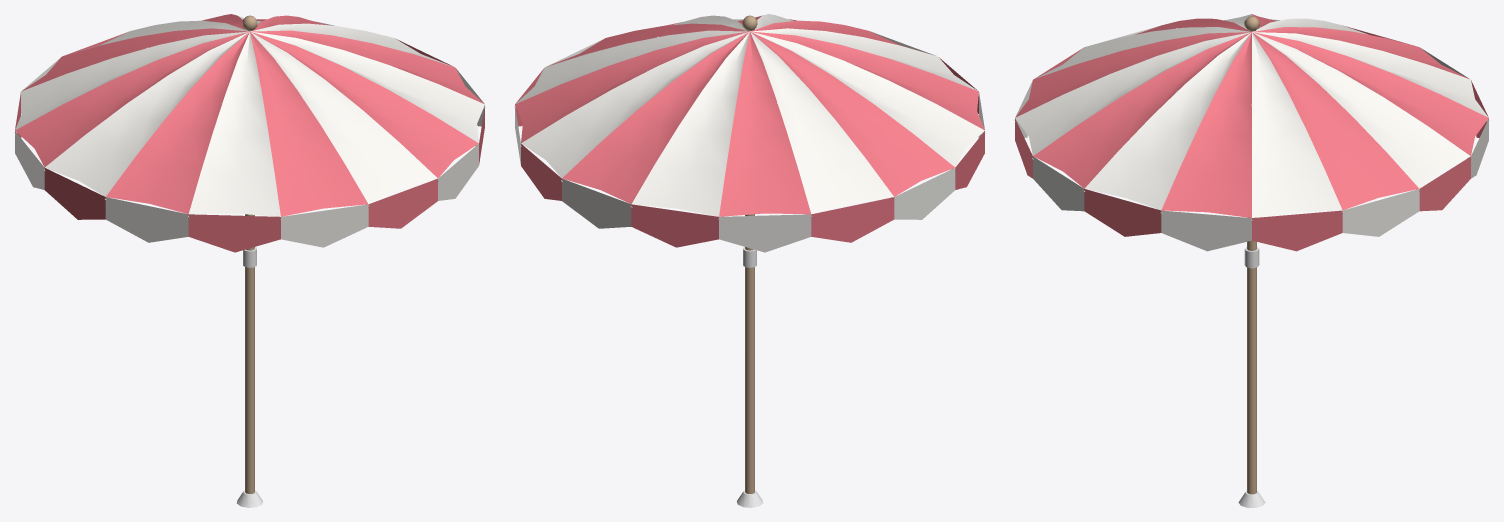
File: prop_parasol.glb
3 views of the same model, side by side, from view 1: azimuth 30°, elevation 25°; view 2: azimuth 150°, elevation 25°; view 3: azimuth 270°, elevation 25° (orthographic).
Parts seen in each view (by area): view 1: Parasol; view 2: Parasol; view 3: Parasol.
Part boxes in pixels (bbox=[...]): Parasol: bbox=[14, 14, 485, 507]; Parasol: bbox=[514, 14, 985, 507]; Parasol: bbox=[1014, 14, 1489, 507].
Size of the model in its own units: 2.1 by 2.38 by 2.1.
